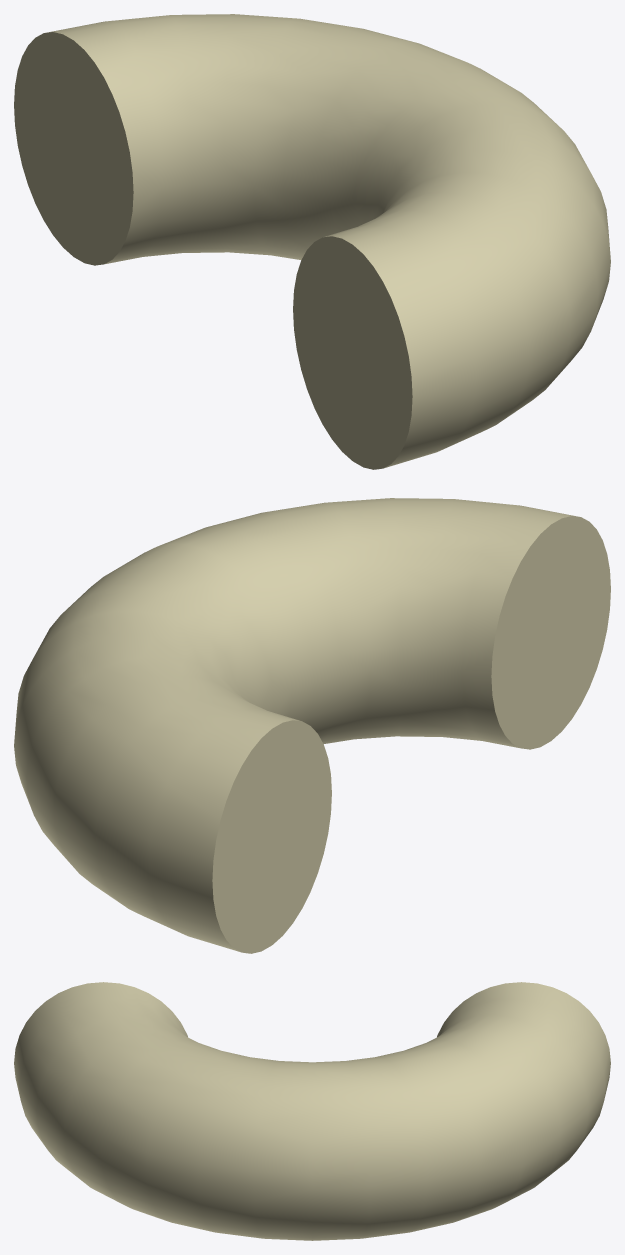
The model's file is Shape_Pipe_180.FBX.
3 renders of one model, top to bottom at view 1: azimuth 30°, elevation 25°; view 2: azimuth 150°, elevation 25°; view 3: azimuth 270°, elevation 25°, orthographic. The views are drawn at different scales.
Visible parts, largest first — view 1: Shape_Pipe_180; view 2: Shape_Pipe_180; view 3: Shape_Pipe_180.
Boxes of the visible parts, x1,y1,x2,y2 form: Shape_Pipe_180: (14,14,610,469); Shape_Pipe_180: (14,498,610,953); Shape_Pipe_180: (14,982,610,1240).
Size of the model in its own units: 50 by 100 by 30.
